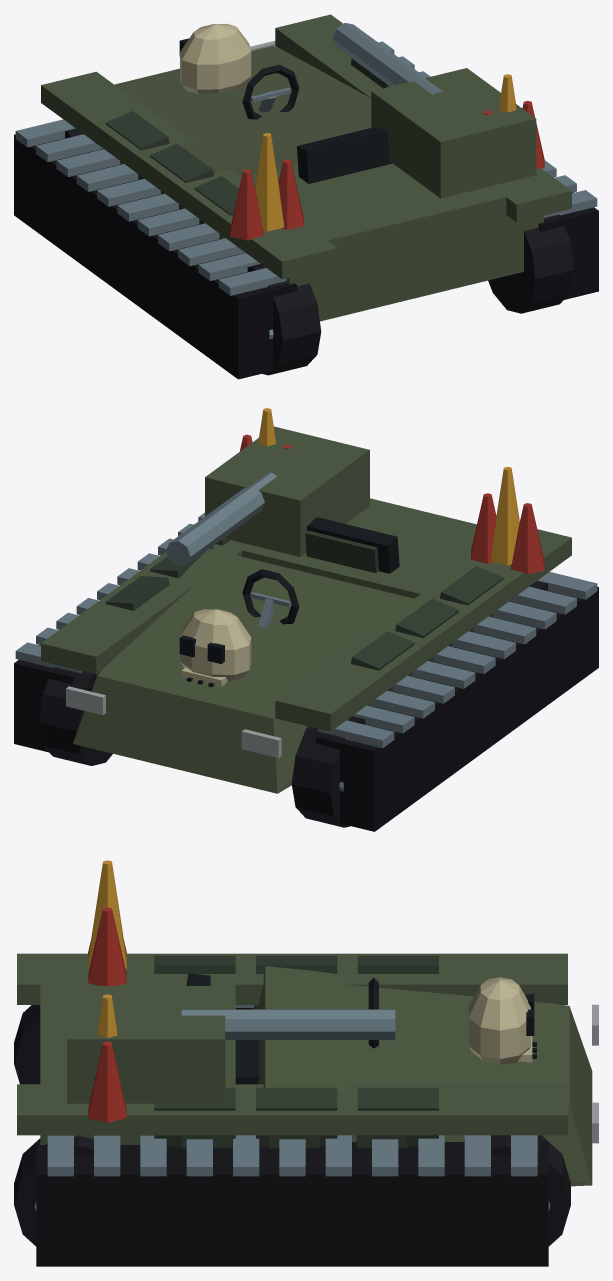
Rendered from kart.glb.
The picture shows the model from 3 angles, top to bottom: view 1: azimuth 30°, elevation 25°; view 2: azimuth 150°, elevation 25°; view 3: azimuth 270°, elevation 25°; orthographic projection. The views are drawn at different scales.
Visible parts, largest first — view 1: identity-tank-tank-armored-hull, identity-tank-tank-full-length-tracks, identity-tank-motif-fire, identity-tank-driver-cockpit, wheel-rear-right, identity-tank-motif-skull, identity-tank-motif-armor, wheel-rear-left; view 2: identity-tank-tank-armored-hull, identity-tank-tank-full-length-tracks, identity-tank-motif-armor, identity-tank-driver-cockpit, identity-tank-motif-fire, identity-tank-motif-skull, wheel-front-left, wheel-front-right; view 3: identity-tank-tank-armored-hull, identity-tank-tank-full-length-tracks, identity-tank-motif-armor, identity-tank-motif-fire, identity-tank-motif-skull, wheel-front-right, wheel-rear-right, wheel-rear-left, identity-tank-driver-cockpit.
Boxes of the visible parts, box(x1,y1,x2,y2) form: identity-tank-tank-armored-hull: box(41, 14, 571, 321); identity-tank-tank-full-length-tracks: box(14, 41, 598, 379); identity-tank-motif-fire: box(230, 74, 544, 240); identity-tank-driver-cockpit: box(242, 64, 392, 183); wheel-rear-right: box(488, 214, 573, 313); identity-tank-motif-skull: box(179, 23, 251, 93); identity-tank-motif-armor: box(105, 58, 389, 238); wheel-rear-left: box(247, 264, 321, 375); identity-tank-tank-armored-hull: box(41, 426, 571, 793); identity-tank-tank-full-length-tracks: box(14, 512, 598, 831); identity-tank-motif-armor: box(105, 536, 503, 670); identity-tank-driver-cockpit: box(242, 517, 399, 627); identity-tank-motif-fire: box(240, 408, 544, 574); identity-tank-motif-skull: box(179, 609, 251, 686); wheel-front-left: box(291, 716, 365, 827); wheel-front-right: box(39, 667, 112, 765); identity-tank-tank-armored-hull: box(17, 953, 598, 1186); identity-tank-tank-full-length-tracks: box(36, 1005, 548, 1266); identity-tank-motif-armor: box(154, 955, 438, 1146); identity-tank-motif-fire: box(88, 860, 126, 1122); identity-tank-motif-skull: box(468, 977, 536, 1064); wheel-front-right: box(463, 1135, 570, 1246); wheel-rear-right: box(14, 1136, 93, 1246); wheel-rear-left: box(14, 1005, 40, 1084); identity-tank-driver-cockpit: box(186, 973, 394, 1084).
Bounding box in the file's own units: 2.38 × 1.37 × 2.88.
